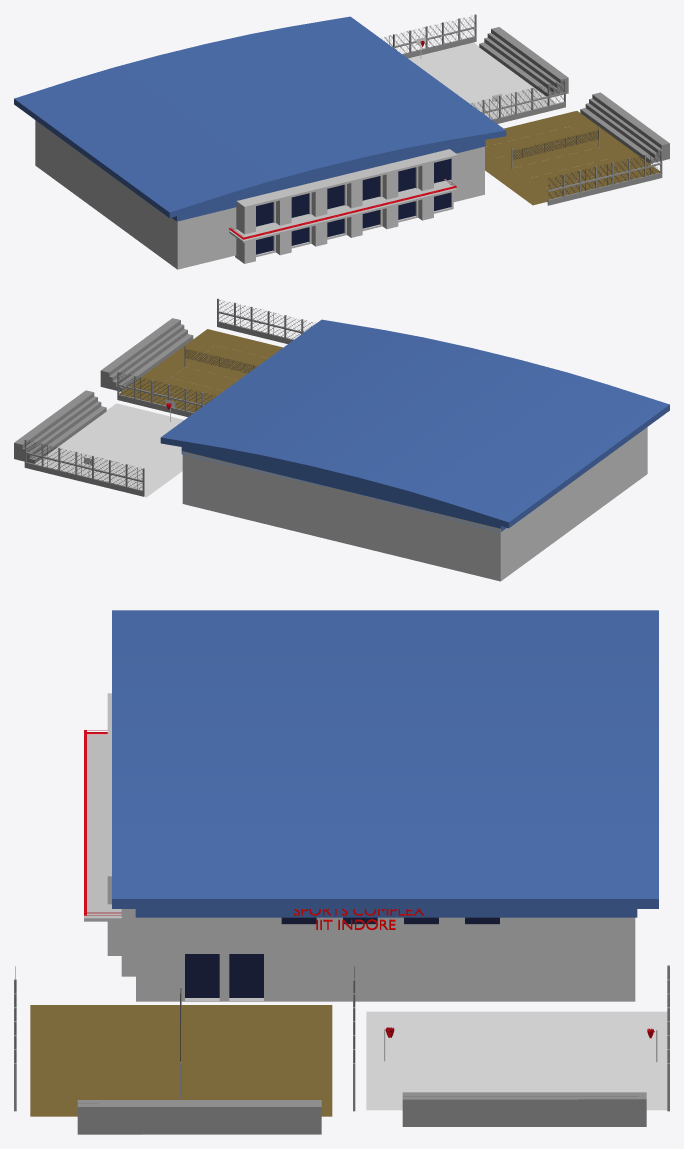
File: Sports cmplx.fbx
3 renders of one model, top to bottom at view 1: azimuth 30°, elevation 25°; view 2: azimuth 150°, elevation 25°; view 3: azimuth 270°, elevation 25°, orthographic. The views are drawn at different scales.
Parts seen in each view (by area): view 1: Cube.001, Cube.002, Cube, Plane.001, Plane, Cube.015, Cube.003, Cube.014, Cube.004, Cube.016, Cube.008, Cube.006 (+4 smaller); view 2: Cube.001, Cube, Plane, Plane.001, Cube.004, Cube.015, Cube.014, Cube.008, Cube.016, Cube.006, Plane.003, Plane.007 (+2 smaller); view 3: Cube.001, Cube, Plane.001, Plane, Cube.015, Cube.014, Cube.003, Cube.004, Cube.002, Text.
Part boxes in pixels (x1,y1,x2,y2): Cube.001: (14, 16, 506, 218); Cube.002: (235, 149, 457, 263); Cube: (35, 120, 484, 269); Plane.001: (485, 111, 662, 205); Plane: (408, 42, 556, 119); Cube.015: (580, 92, 669, 163); Cube.003: (229, 178, 456, 242); Cube.014: (479, 27, 568, 97); Cube.004: (172, 139, 485, 221); Cube.016: (547, 150, 662, 205); Cube.008: (392, 14, 476, 58); Cube.006: (482, 80, 565, 123); Cube.001: (160, 319, 669, 528); Cube: (182, 427, 647, 581); Plane: (35, 403, 183, 497); Plane.001: (119, 329, 282, 412); Cube.004: (181, 447, 506, 531); Cube.015: (100, 318, 193, 391); Cube.014: (14, 390, 106, 463); Cube.008: (24, 439, 142, 496); Cube.016: (217, 298, 303, 343); Cube.006: (117, 371, 204, 416); Plane.003: (26, 442, 142, 489); Plane.007: (185, 349, 256, 372); Cube.001: (112, 610, 658, 908); Cube: (136, 917, 635, 1001); Plane.001: (30, 1005, 332, 1116); Plane: (366, 1011, 667, 1110); Cube.015: (77, 1100, 321, 1134); Cube.014: (402, 1092, 646, 1126); Cube.003: (84, 730, 121, 921); Cube.004: (135, 909, 637, 917); Cube.002: (107, 693, 135, 976); Text: (294, 909, 424, 930).
Size of the model in its own units: 2492 by 371 by 1643.
